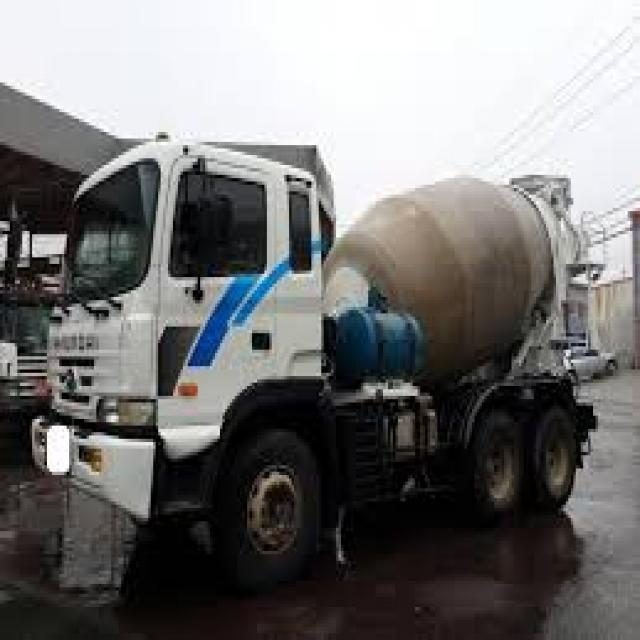Mixer Truck: (26, 128, 610, 595)
